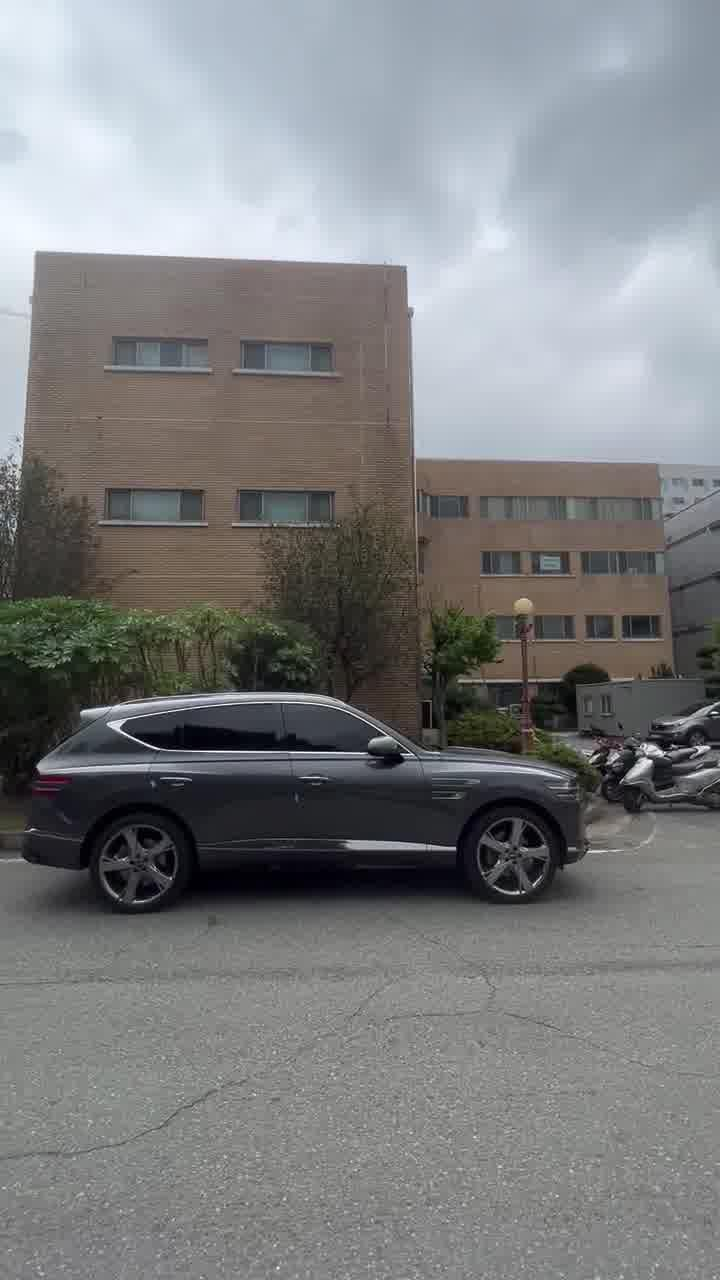building: (40, 250, 688, 660)
